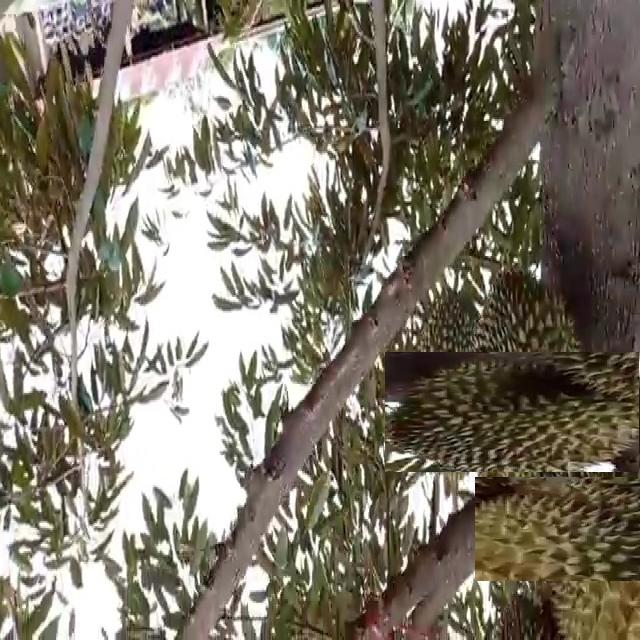durian: (428, 308, 634, 515), (503, 449, 640, 611), (398, 289, 494, 487)
